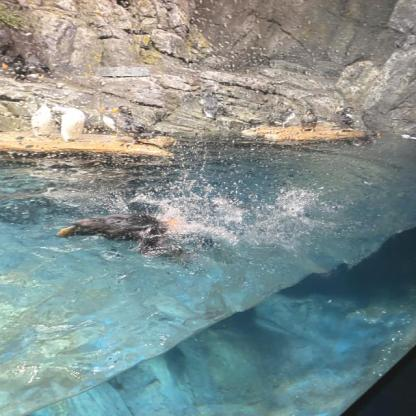puffin: (54, 210, 186, 261), (111, 104, 168, 145), (52, 106, 86, 142), (31, 104, 58, 139), (25, 50, 53, 77), (333, 105, 359, 134), (3, 55, 29, 81), (199, 92, 222, 120), (269, 106, 297, 129), (343, 131, 380, 147), (98, 107, 117, 136), (299, 108, 316, 133)
